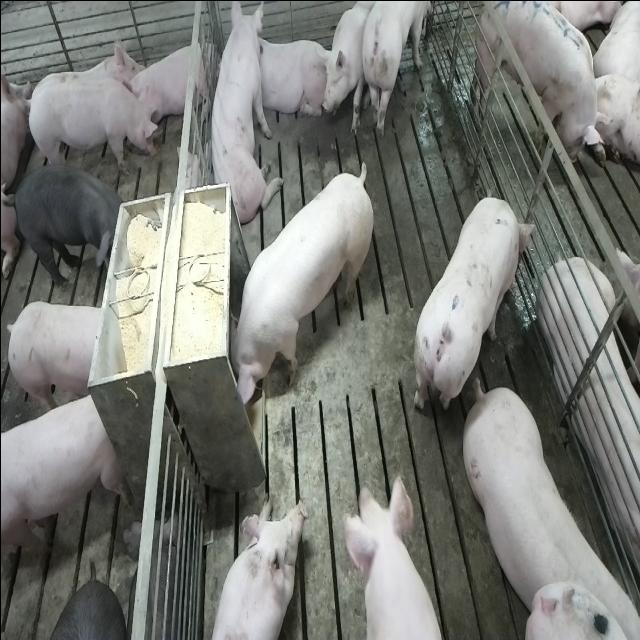Feeding: (220, 160, 369, 410)
Sitting: (203, 4, 277, 230), (321, 2, 374, 141)
Standing: (456, 373, 634, 633), (414, 193, 536, 420), (1, 386, 123, 575), (475, 0, 612, 161), (14, 158, 127, 288), (21, 77, 158, 179), (5, 298, 106, 414), (361, 0, 436, 136)
Sternal_lying: (540, 252, 640, 590), (206, 496, 307, 640), (128, 36, 210, 132), (251, 35, 329, 121)
